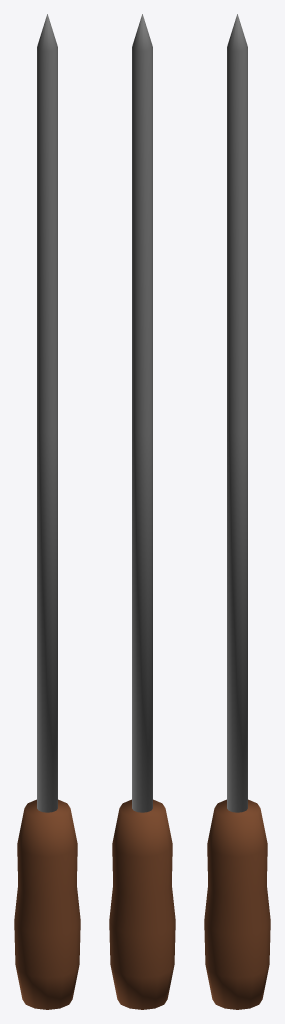
The model's file is pick.fbx.
3 renders of one model, left to right at view 1: azimuth 90°, elevation 25°; view 2: azimuth 150°, elevation 25°; view 3: azimuth 270°, elevation 25°, orthographic.
Visible parts, largest first — view 1: skewer_pick, skewer_handle; view 2: skewer_pick, skewer_handle; view 3: skewer_pick, skewer_handle.
Part boxes in pixels (bbox=[...]): skewer_pick: bbox=[37, 14, 57, 812]; skewer_handle: bbox=[14, 799, 80, 1009]; skewer_pick: bbox=[132, 14, 152, 812]; skewer_handle: bbox=[109, 799, 175, 1009]; skewer_pick: bbox=[227, 14, 247, 812]; skewer_handle: bbox=[204, 799, 270, 1009].
Size of the model in its own units: 7.64 by 125 by 7.64.
